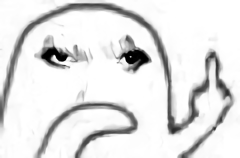dragon: (34, 37, 153, 101)
